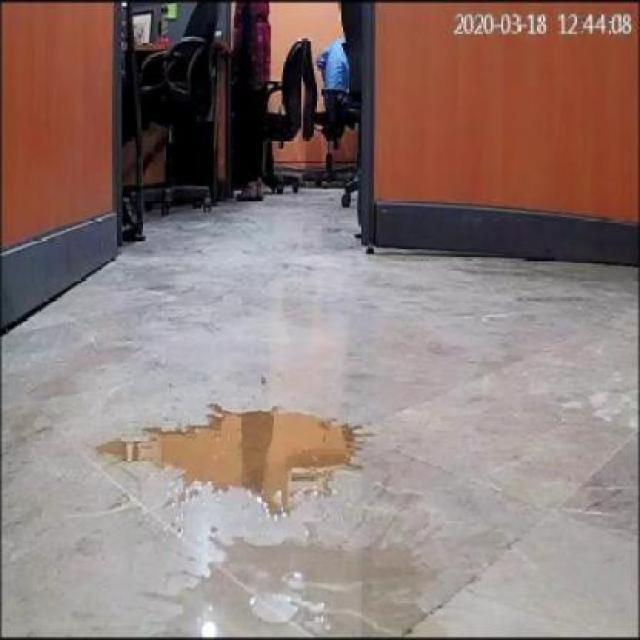spillage: (96, 403, 356, 515)
